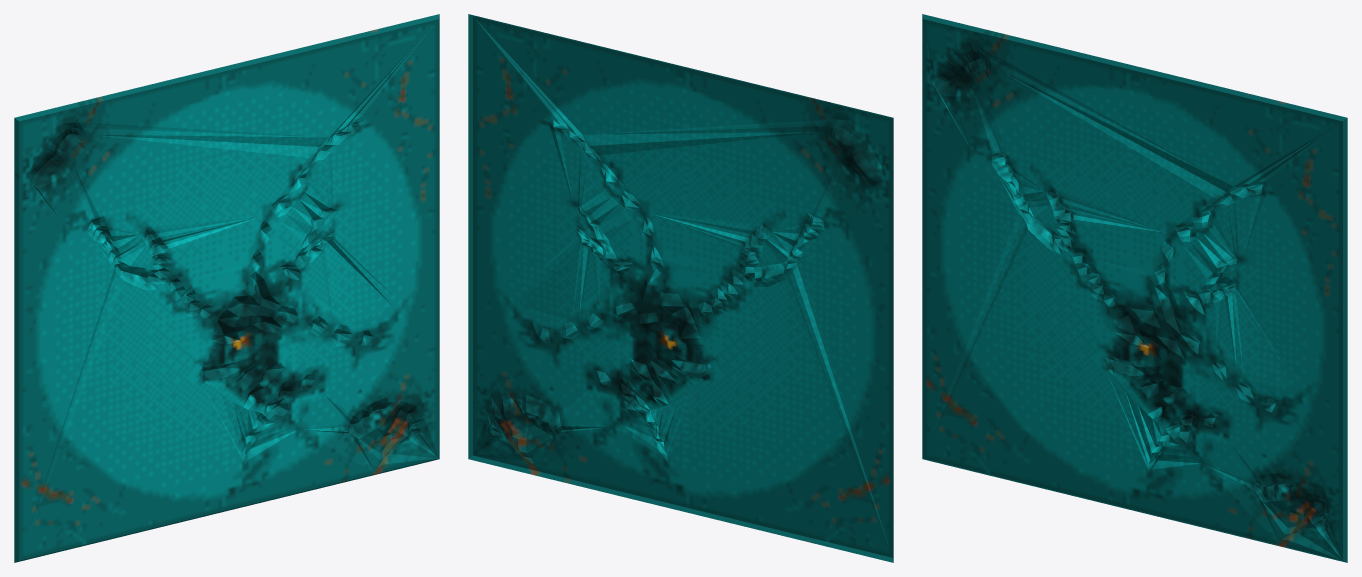
Rendered from med1_8d.fbx.
3 views of the same model, side by side, from view 1: azimuth 30°, elevation 25°; view 2: azimuth 150°, elevation 25°; view 3: azimuth 330°, elevation 25° (orthographic).
Parts seen in each view (by area): view 1: med1_8d_mesh; view 2: med1_8d_mesh; view 3: med1_8d_mesh.
Part boxes in pixels (x1,y1,x2,y2): med1_8d_mesh: (14, 14, 439, 562); med1_8d_mesh: (468, 14, 893, 562); med1_8d_mesh: (922, 14, 1347, 562).
Size of the model in its own units: 256 by 256 by 4.02.
